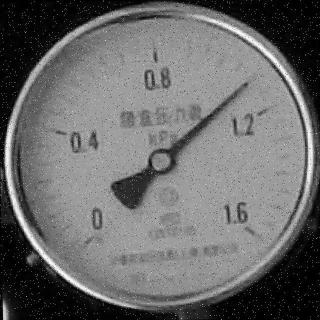gauge: (0, 0, 320, 320), (66, 203, 114, 265), (214, 199, 268, 250), (145, 144, 177, 178), (235, 76, 255, 96)
